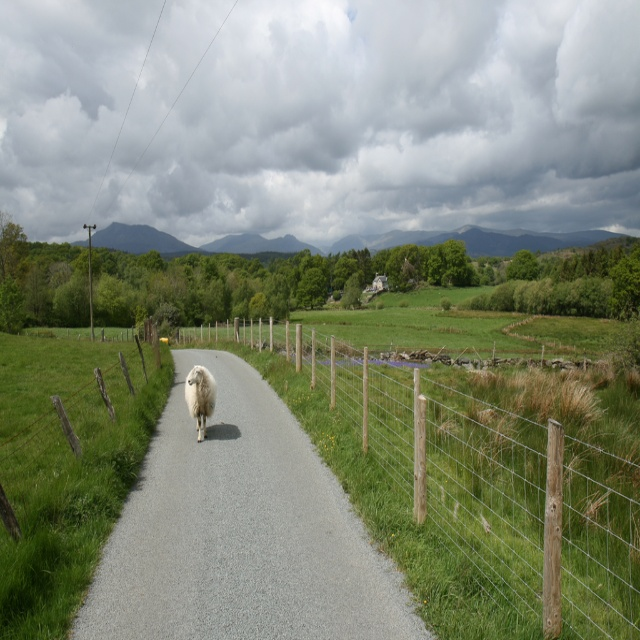Sheep: (176, 361, 214, 442)
